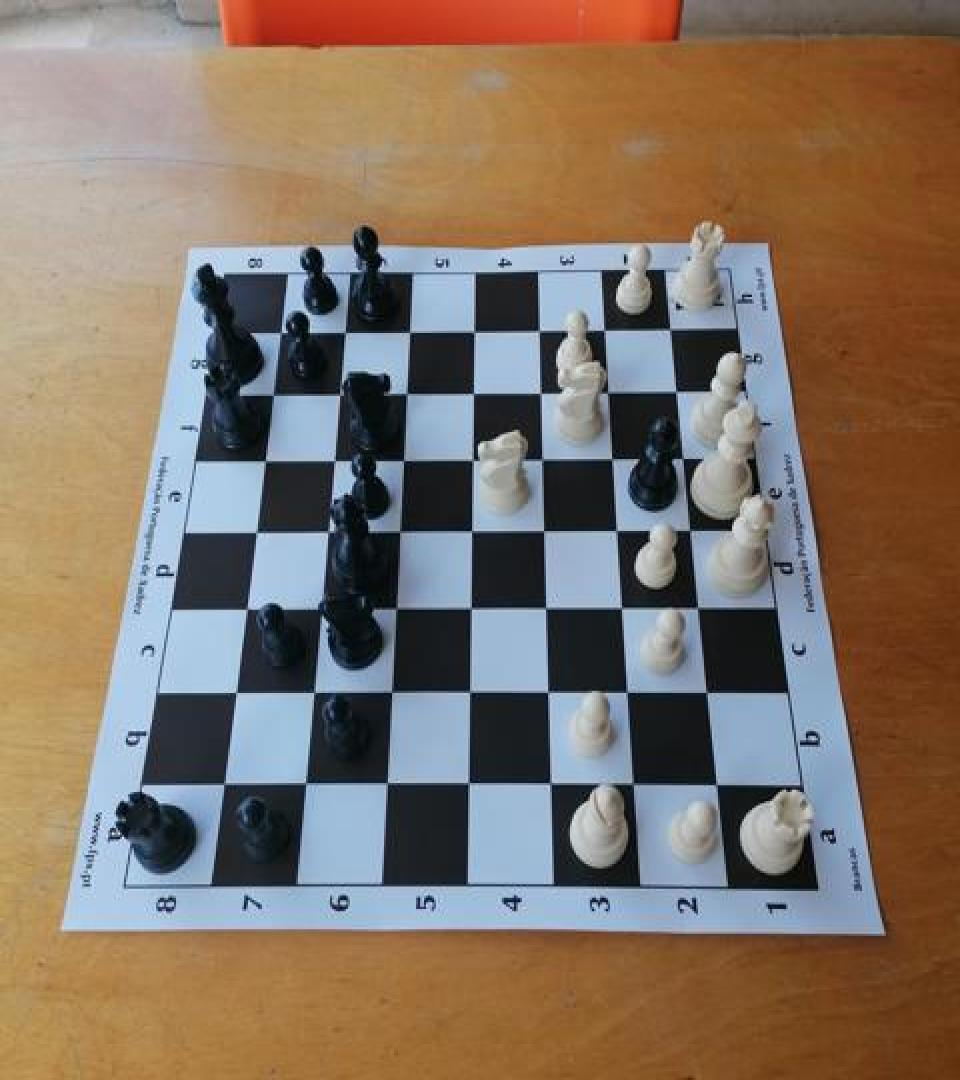xcorner: (212, 769, 240, 801), (294, 769, 322, 801), (376, 769, 404, 801), (458, 769, 486, 801), (541, 769, 569, 801), (624, 769, 652, 801), (707, 768, 735, 800), (223, 678, 251, 710), (301, 677, 329, 709), (380, 677, 408, 709), (459, 677, 487, 709), (538, 677, 566, 709), (617, 676, 645, 708), (697, 676, 725, 708), (233, 594, 261, 626), (242, 515, 270, 547), (314, 515, 342, 547), (387, 515, 415, 547), (460, 514, 488, 546), (533, 514, 561, 546), (606, 513, 634, 545), (679, 513, 707, 545), (250, 444, 278, 476), (320, 443, 348, 475), (390, 442, 418, 474), (460, 442, 488, 474), (530, 441, 558, 473), (601, 441, 629, 473), (596, 373, 624, 405), (664, 373, 692, 405), (266, 315, 294, 347), (657, 310, 685, 342), (308, 593, 336, 624), (383, 593, 411, 624), (459, 592, 487, 623), (535, 592, 563, 623), (611, 592, 639, 623), (688, 591, 716, 622), (671, 440, 699, 471), (258, 377, 286, 408), (325, 377, 353, 408), (393, 376, 421, 407), (460, 375, 488, 406), (528, 375, 556, 406), (330, 314, 358, 345), (395, 314, 423, 345), (461, 313, 489, 344), (526, 312, 554, 343), (591, 312, 619, 343)
